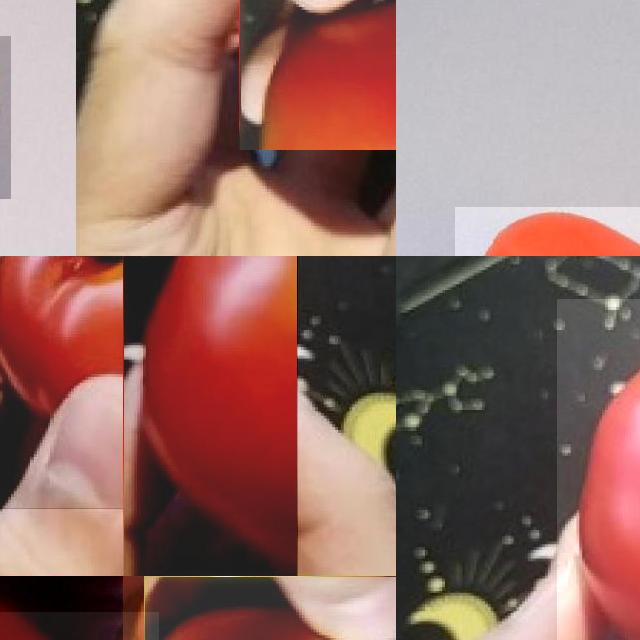0: (239, 0, 396, 150)
Fresh Tomato: (123, 256, 297, 576), (0, 256, 123, 508), (556, 299, 640, 640)
Rotten Tomato: (144, 576, 396, 640)
